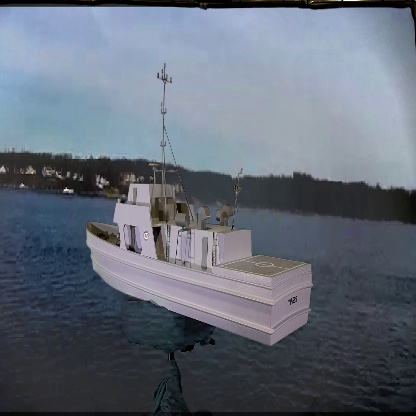YP689: (85, 62, 314, 346)
